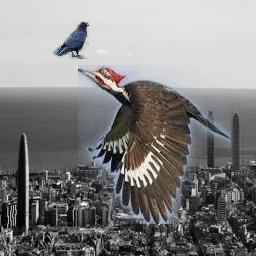Crow: (53, 21, 89, 59)
Woodpecker: (79, 66, 232, 225)
